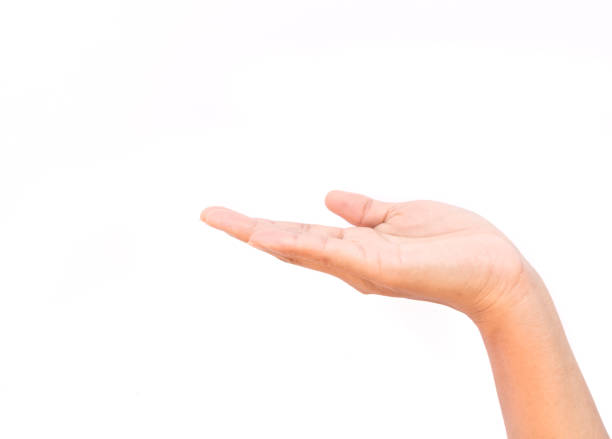hand: (180, 177, 561, 335)
